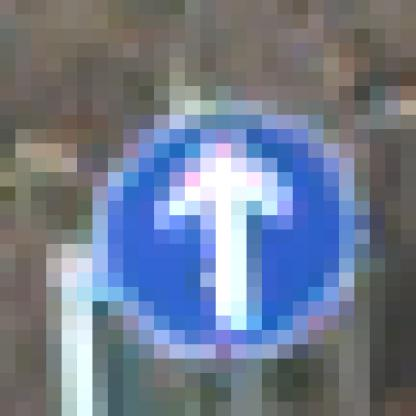AheadOnly: (78, 73, 325, 331)
